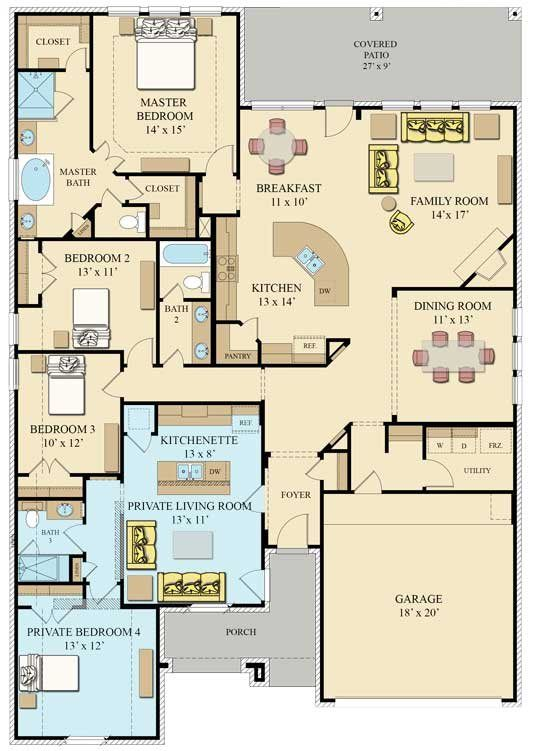door: (319, 109, 353, 147), (279, 507, 311, 543), (426, 452, 456, 489), (95, 137, 125, 170), (207, 137, 235, 170), (33, 605, 70, 627), (353, 466, 385, 488), (40, 255, 60, 290), (242, 309, 267, 337), (238, 568, 258, 601), (55, 87, 74, 118), (88, 586, 116, 607), (129, 335, 154, 358), (126, 437, 153, 456), (62, 523, 81, 549), (58, 205, 80, 225), (298, 463, 320, 483), (163, 342, 185, 362), (67, 45, 87, 64), (99, 188, 121, 205), (85, 552, 98, 580), (165, 281, 184, 295)
room: (235, 104, 518, 292), (116, 399, 267, 608), (89, 8, 241, 177), (12, 604, 160, 742), (377, 286, 520, 426), (10, 347, 125, 501), (11, 237, 161, 354), (12, 66, 94, 242), (419, 420, 519, 495), (111, 171, 200, 242), (13, 11, 94, 72), (154, 297, 217, 370), (154, 236, 216, 303), (11, 66, 58, 122), (209, 318, 262, 367), (89, 202, 149, 242)
wall: (14, 390, 18, 740), (513, 491, 517, 700), (381, 489, 514, 495), (211, 214, 216, 368), (120, 400, 265, 405), (320, 480, 323, 702), (236, 12, 240, 176), (14, 13, 18, 158), (184, 364, 326, 368), (382, 421, 516, 425), (391, 286, 515, 290), (90, 12, 93, 149), (120, 398, 125, 479), (156, 605, 159, 738), (116, 172, 205, 176), (14, 496, 85, 501), (346, 426, 351, 492), (261, 402, 265, 481), (15, 12, 107, 15), (121, 603, 190, 607), (195, 173, 199, 239), (15, 736, 64, 741), (261, 512, 265, 571), (69, 472, 123, 476), (15, 582, 87, 585), (108, 736, 157, 740), (154, 401, 159, 435), (257, 339, 263, 366), (384, 421, 389, 453), (421, 421, 425, 458), (216, 319, 240, 325), (200, 214, 238, 217), (120, 579, 124, 607), (68, 554, 72, 582), (146, 203, 149, 237), (82, 473, 86, 498), (326, 339, 330, 364), (232, 604, 264, 607), (14, 304, 42, 307), (320, 490, 345, 493), (222, 12, 240, 16), (262, 544, 280, 548), (322, 450, 347, 452), (15, 473, 27, 477), (356, 107, 360, 119), (157, 664, 168, 668), (320, 699, 333, 702), (502, 699, 515, 702), (392, 287, 396, 296), (39, 238, 41, 252)
